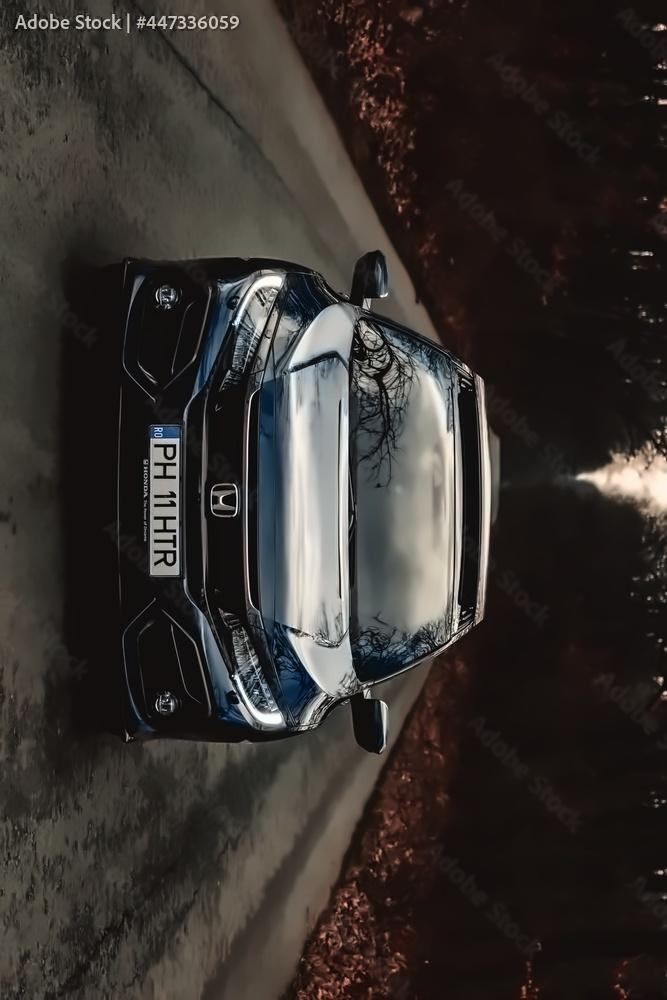Car hood: (250, 277, 360, 710)
Front bumper: (114, 247, 220, 761)
Headlight - -L-: (200, 594, 290, 752)
Headlight - -R-: (217, 268, 297, 387)
Side mirror - -L-: (338, 679, 407, 770)
Side mirror - -R-: (340, 234, 402, 322)
